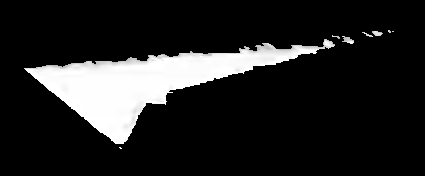Plane: (16, 21, 406, 156)
